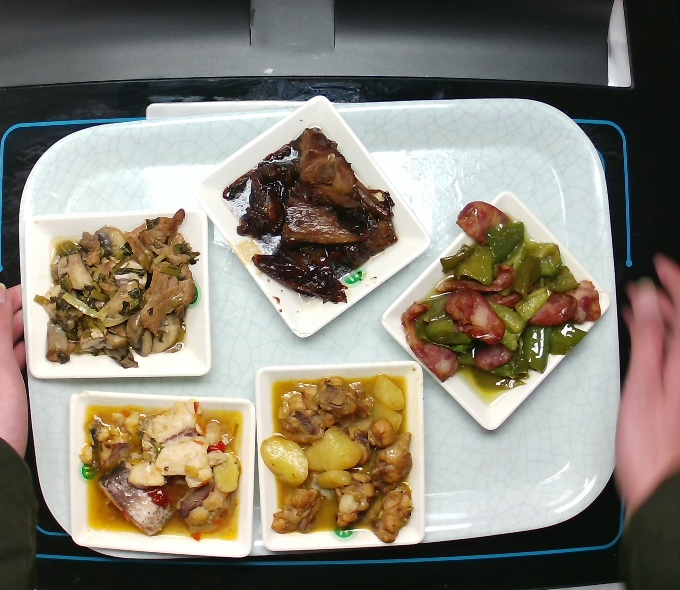wcq-JiangZhiYa: (218, 125, 399, 307)
wcq-MoGuRouPian: (30, 207, 202, 374)
wcq-QingJiaoXiangChang: (401, 197, 604, 399)
wcq-SuanCaiYu: (81, 401, 248, 542)
wcq-TuDouJiKuai: (259, 371, 419, 546)
